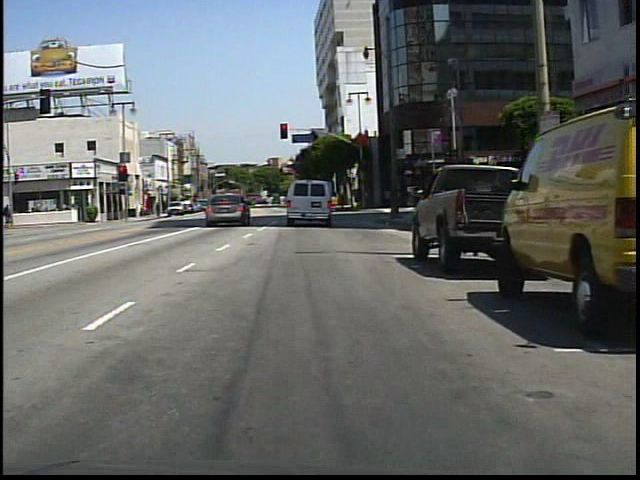person: (297, 186, 316, 222), (240, 193, 255, 218), (5, 202, 18, 230)
